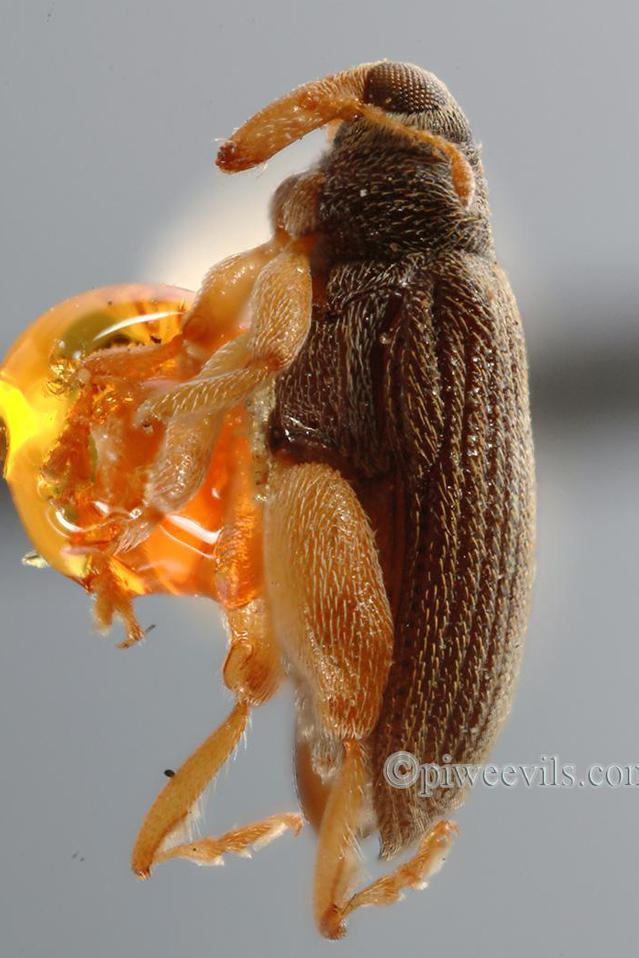weevils: (23, 16, 593, 958), (70, 16, 73, 26)
